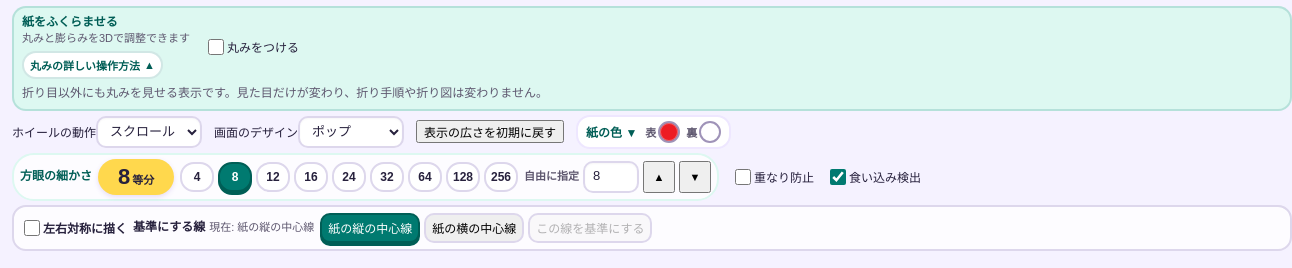
紙のたわみ(SIM-012 / SIM-013) › 入れると硬さと膨らみのつまみが出る
Click the checkbox named "紙のたわみを表現する". click: [216, 47]
box: [208,39,224,55]
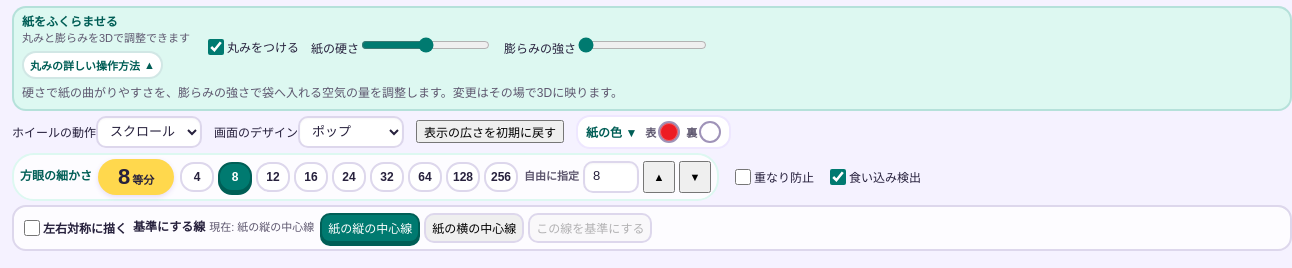
Result: the slider labelled "紙の硬さ" holds "0.5" at [361,37,490,53]
Result: the slider labelled "膨らみの強さ" holds "0" at [578,37,707,53]
